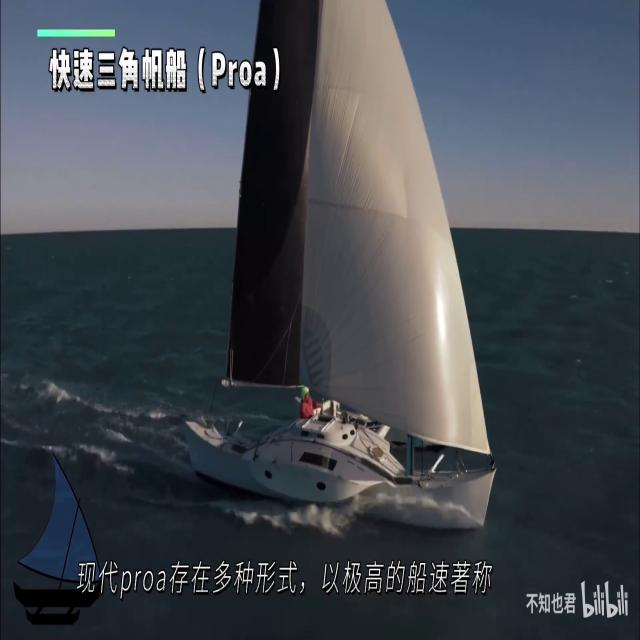sailboat: (186, 45, 499, 542)
